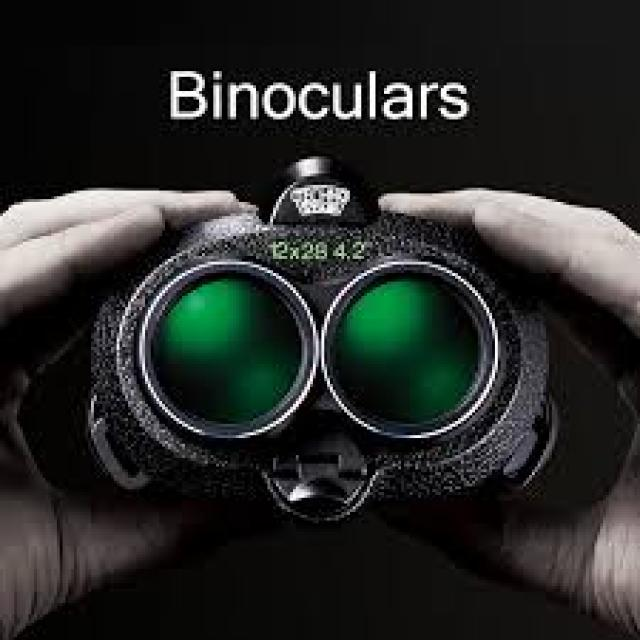Binocular: (26, 186, 614, 531)
